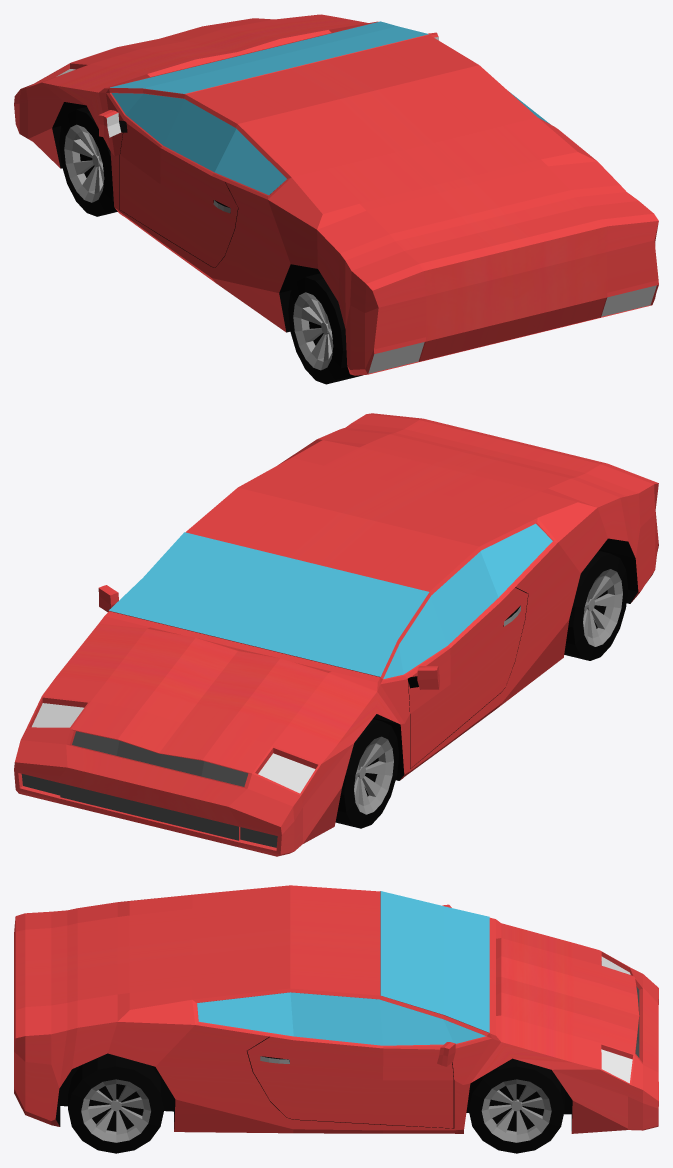
File: Car16ToimiivaMateriaalitFBXVersio1.fbx
3 renders of one model, top to bottom at view 1: azimuth 30°, elevation 25°; view 2: azimuth 150°, elevation 25°; view 3: azimuth 270°, elevation 25°, orthographic. The views are drawn at different scales.
Parts seen in each view (by area): view 1: Cube; view 2: Cube; view 3: Cube.
Boxes of the visible parts, x1,y1,x2,y2 form: Cube: (14,14,658,384); Cube: (14,413,658,856); Cube: (14,885,658,1153).
Size of the model in its own units: 500 by 251 by 940.
Materials: 9 (1 with a texture image).
